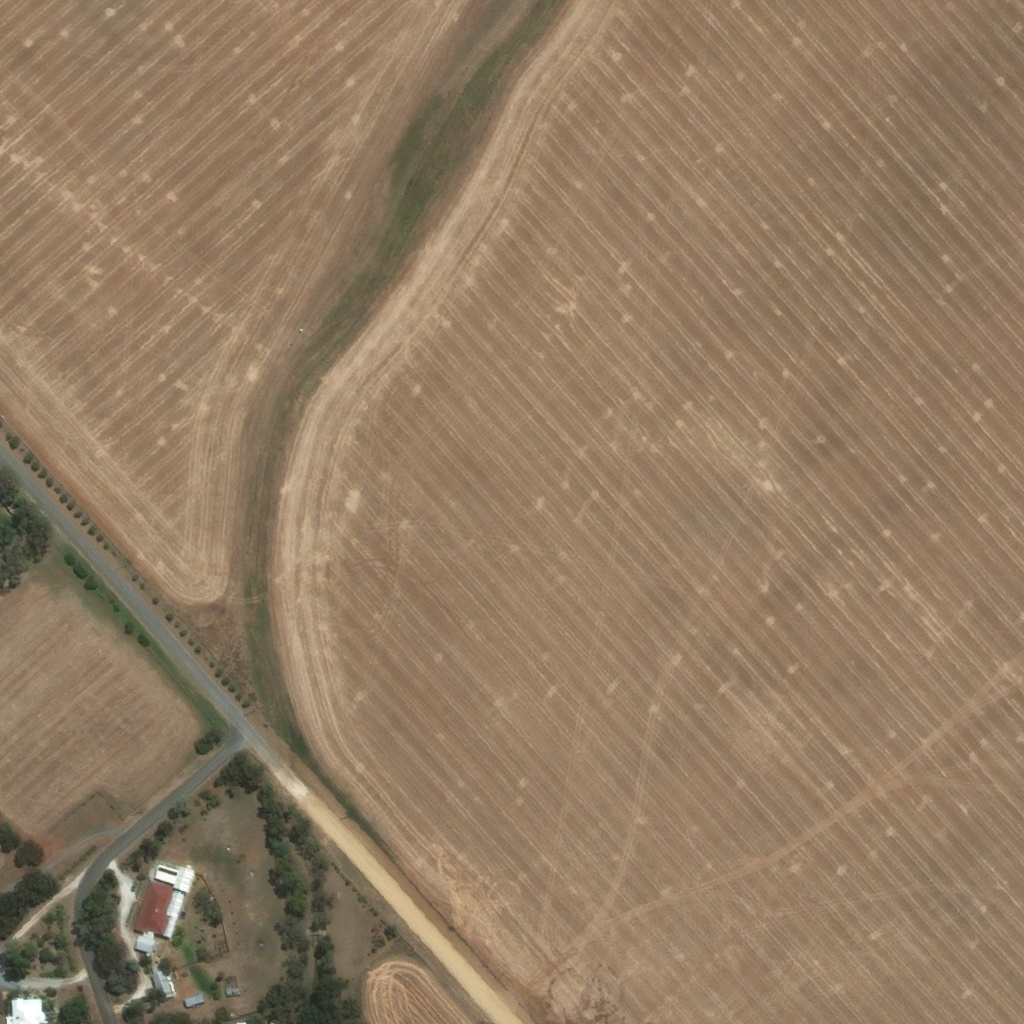0 no-damage: (134, 882, 184, 941), (153, 865, 193, 895), (5, 997, 48, 1023), (150, 965, 176, 1005), (133, 936, 155, 955), (221, 977, 239, 1000), (183, 994, 204, 1010), (144, 953, 151, 958)
